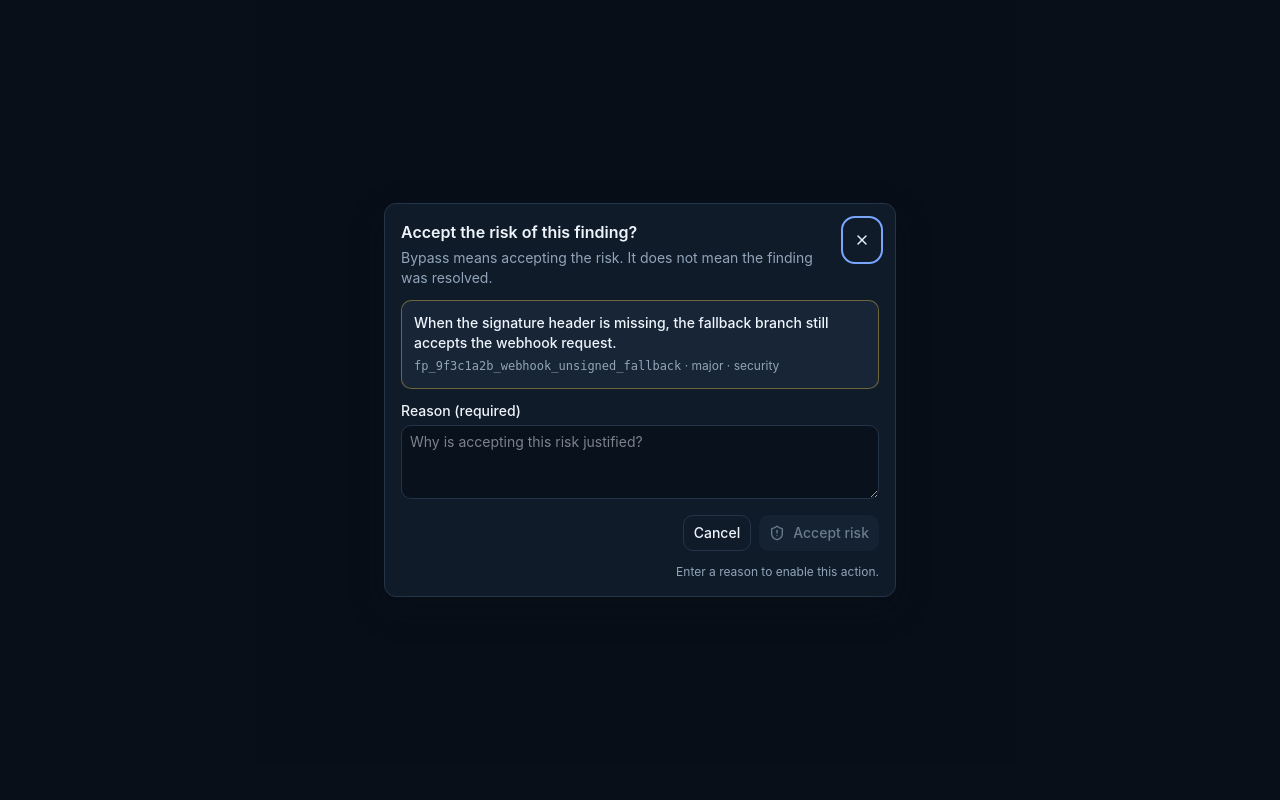
Test: BypassRiskDialog (real submission) › never submits when the data source has no bypass capability
This screenshot has width=1280, height=800.
In the text box: (640, 462) [401,424,879,498], type "reason"
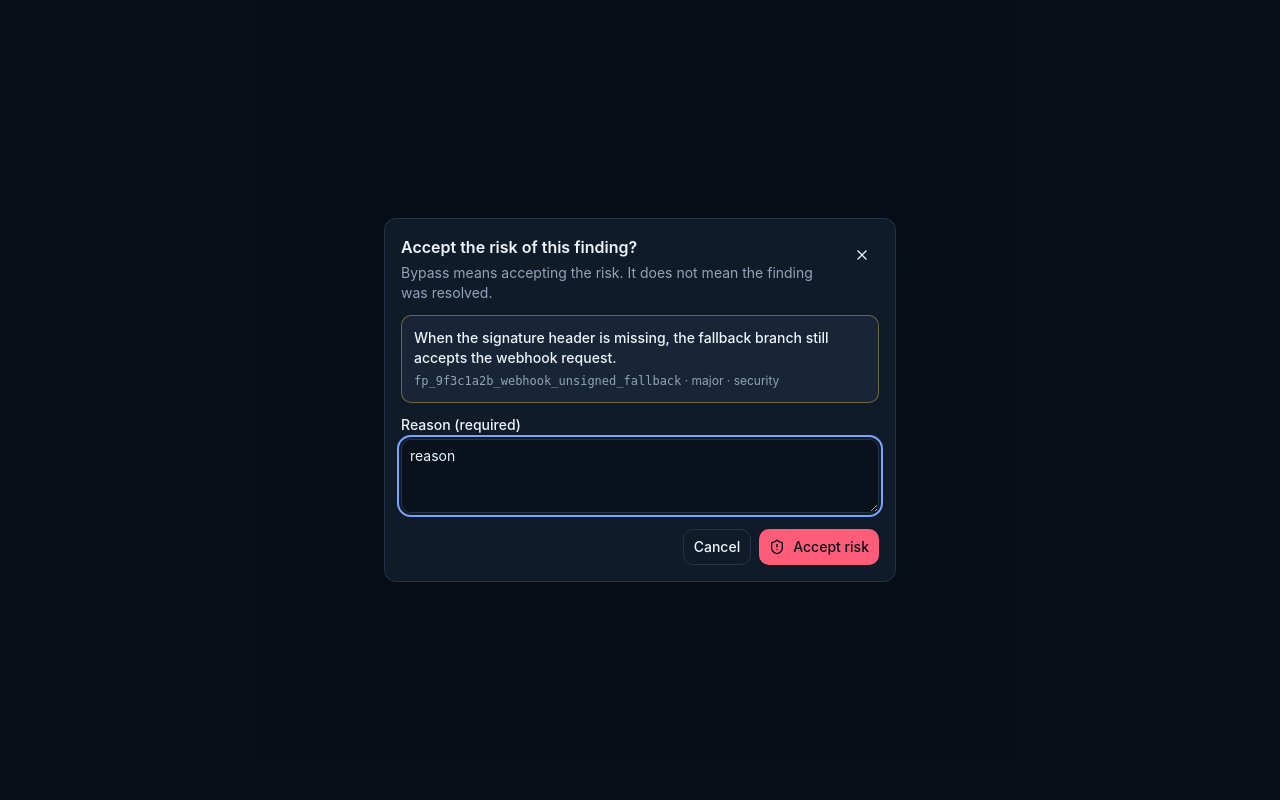
Click the button "Accept risk": (819, 547) [759,529,879,565]
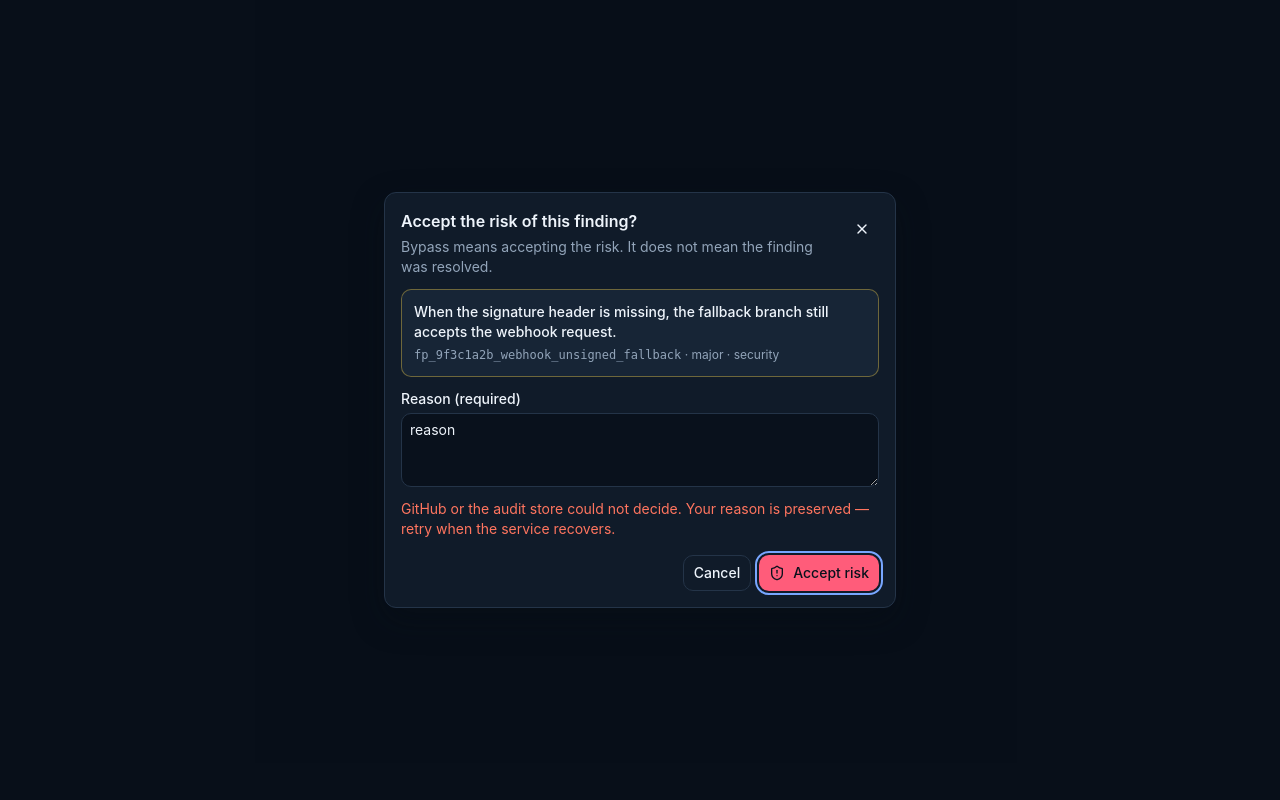
Check: the message shows "could not decide", box [401,500,869,537]
